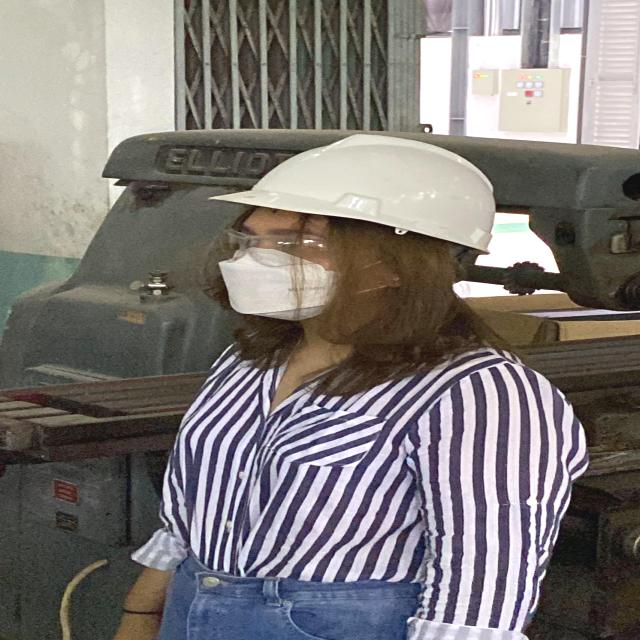face_mask: (214, 222, 368, 324)
glasses: (212, 225, 342, 266)
head_helmet: (200, 129, 502, 252)
person: (92, 122, 607, 640)
